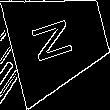N_E: (33, 15, 84, 67)
